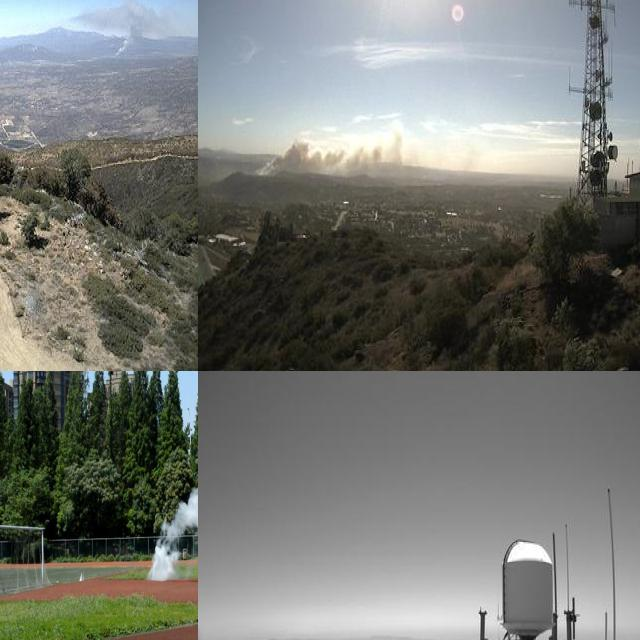smoke: (254, 125, 412, 190), (70, 0, 179, 61), (145, 472, 198, 579)
